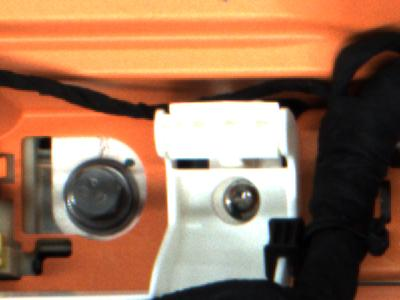nut_b: (60, 154, 143, 235)
